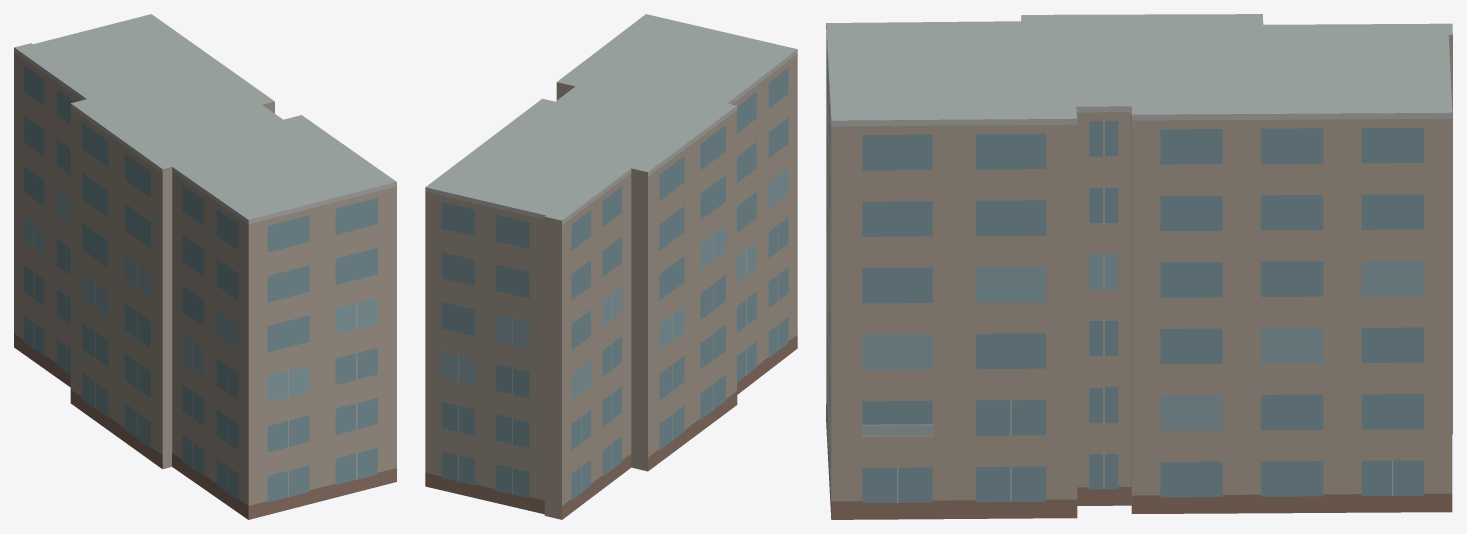
The model's file is survey-upis-32575820.glb.
3 views of the same model, side by side, from view 1: azimuth 30°, elevation 25°; view 2: azimuth 150°, elevation 25°; view 3: azimuth 270°, elevation 25° (orthographic). The views are drawn at different scales.
Visible parts, largest first — view 1: survey-upis-32575820.tmp; view 2: survey-upis-32575820.tmp; view 3: survey-upis-32575820.tmp.
Boxes of the visible parts, box(x1,y1,x2,y2) form: survey-upis-32575820.tmp: box(14, 14, 396, 519); survey-upis-32575820.tmp: box(425, 14, 797, 519); survey-upis-32575820.tmp: box(826, 14, 1452, 519).
Bounding box in the file's own units: 9.41 × 16.4 × 23.33.
